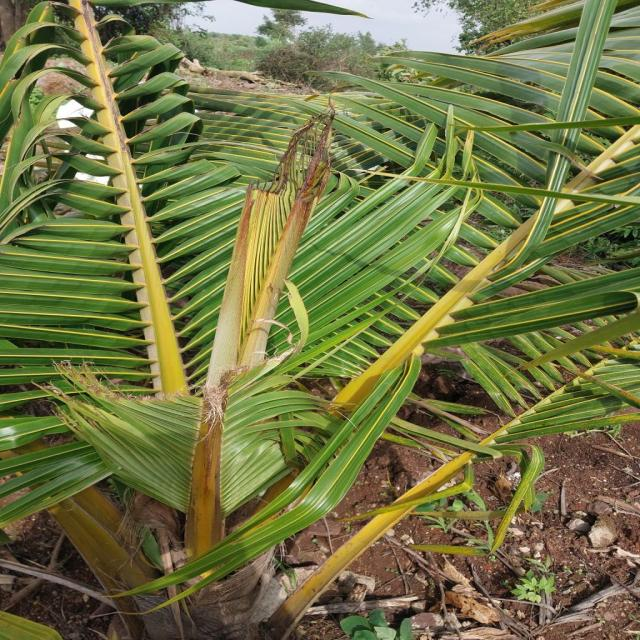bud rot: (207, 105, 335, 386)
